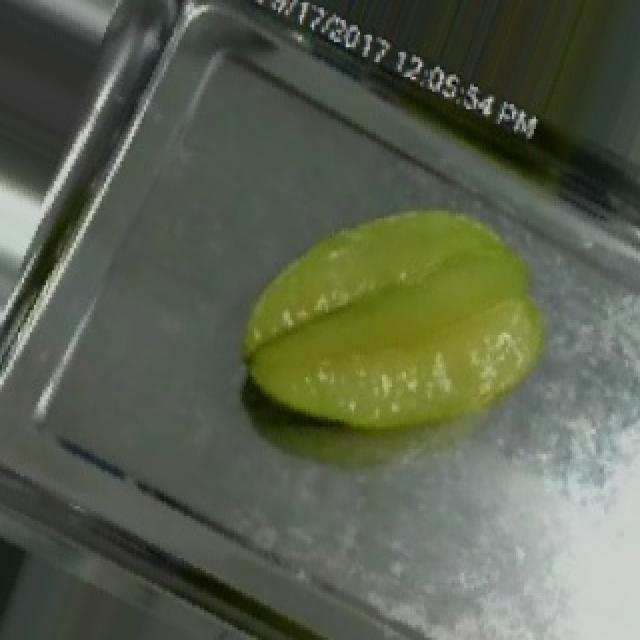fruit: (198, 139, 614, 506)
